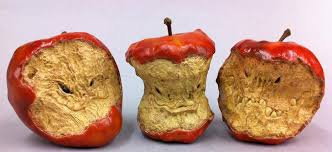damaged_apple: (6, 32, 126, 147), (220, 40, 325, 146), (125, 35, 217, 143)
